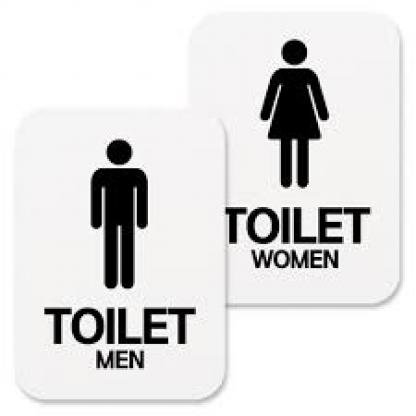toilet: (256, 36, 332, 190), (90, 135, 151, 290)
